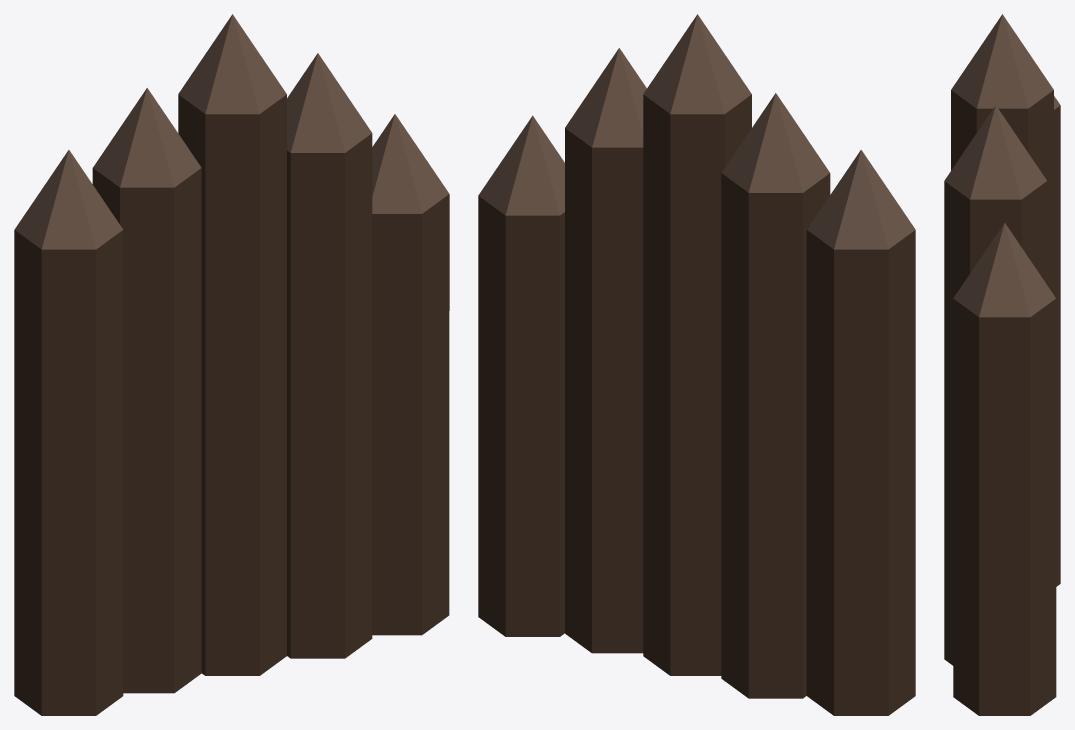
The model's file is Wall_4_Light_Brown.fbx.
3 views of the same model, side by side, from view 1: azimuth 30°, elevation 25°; view 2: azimuth 150°, elevation 25°; view 3: azimuth 270°, elevation 25° (orthographic). The views are drawn at different scales.
Parts seen in each view (by area): view 1: Wall_4_Light_Brown; view 2: Wall_4_Light_Brown; view 3: Wall_4_Light_Brown.
Part boxes in pixels (left/top/right/bottom): Wall_4_Light_Brown: left=14, top=14, right=449, bottom=715; Wall_4_Light_Brown: left=478, top=14, right=915, bottom=715; Wall_4_Light_Brown: left=944, top=14, right=1060, bottom=715.
Size of the model in its own units: 200 by 300 by 52.08.
